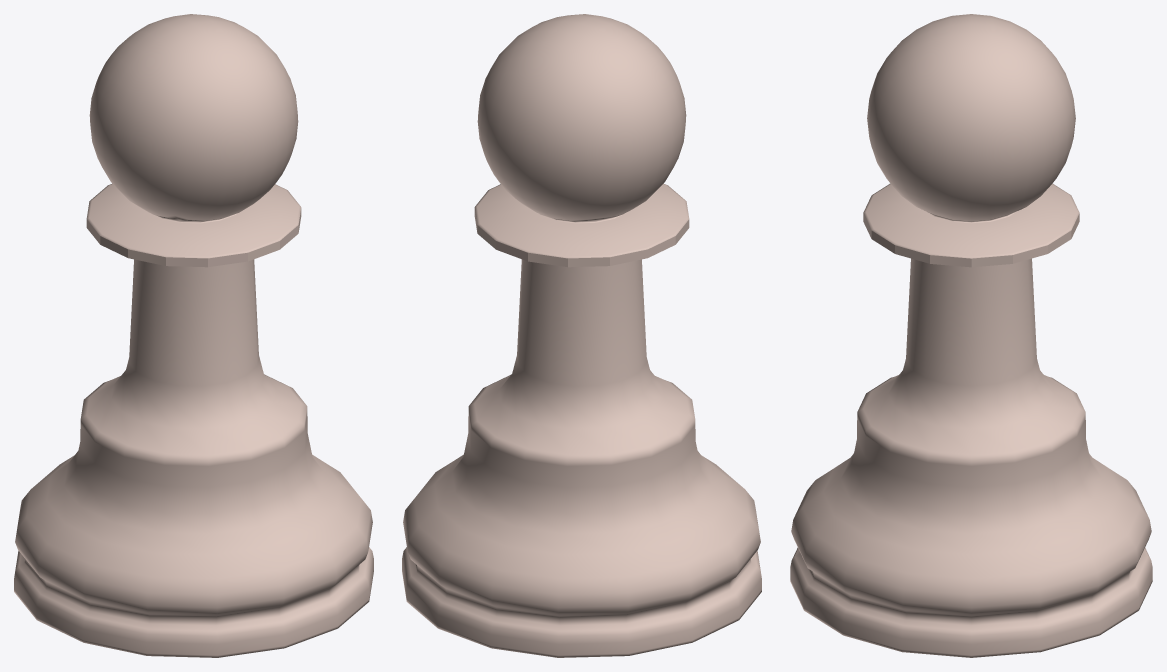
Rendered from pawn3.glb.
3 views of the same model, side by side, from view 1: azimuth 30°, elevation 25°; view 2: azimuth 150°, elevation 25°; view 3: azimuth 270°, elevation 25° (orthographic).
Parts seen in each view (by area): view 1: Pawn_Chess; view 2: Pawn_Chess; view 3: Pawn_Chess.
Part boxes in pixels (x1,y1,x2,y2): Pawn_Chess: (14,14,373,657); Pawn_Chess: (402,14,761,657); Pawn_Chess: (790,14,1152,657).
Size of the model in its own units: 6.15 by 10.43 by 6.15.
